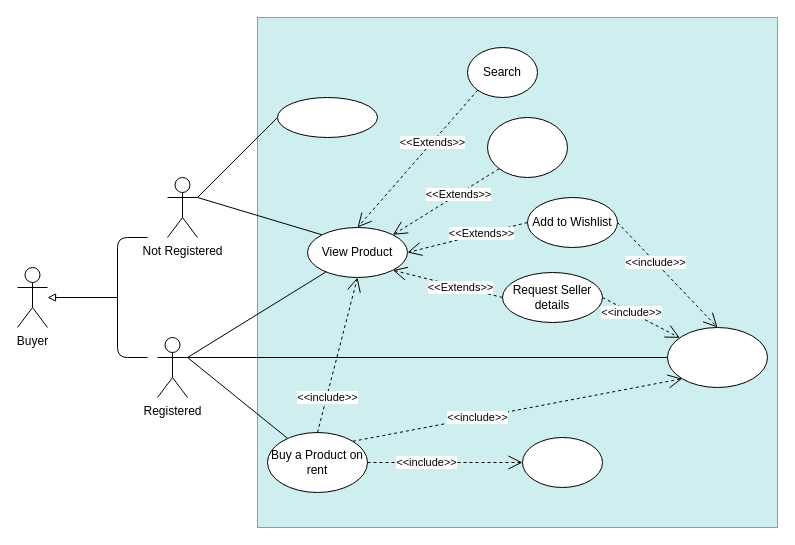
The diagram is 795 pixels wide and 545 high, and some of its shapes have lost their labels. The shapes that lost their labels are listed below. From the top down, each one's centre as x and y in pixels, then its label:
point 327,117: Register
point 527,147: Select by Category
point 717,357: Sign IN
point 562,462: Checkout
